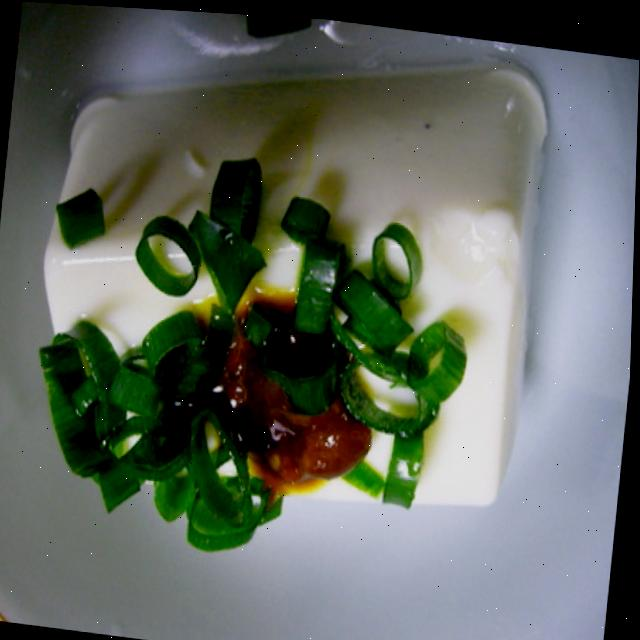豆腐料理: (18, 6, 561, 592)
